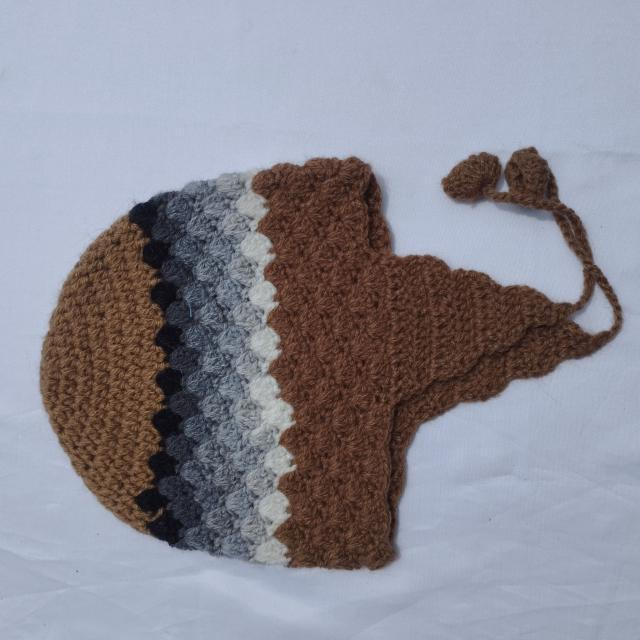Gorro: (38, 146, 623, 572)
